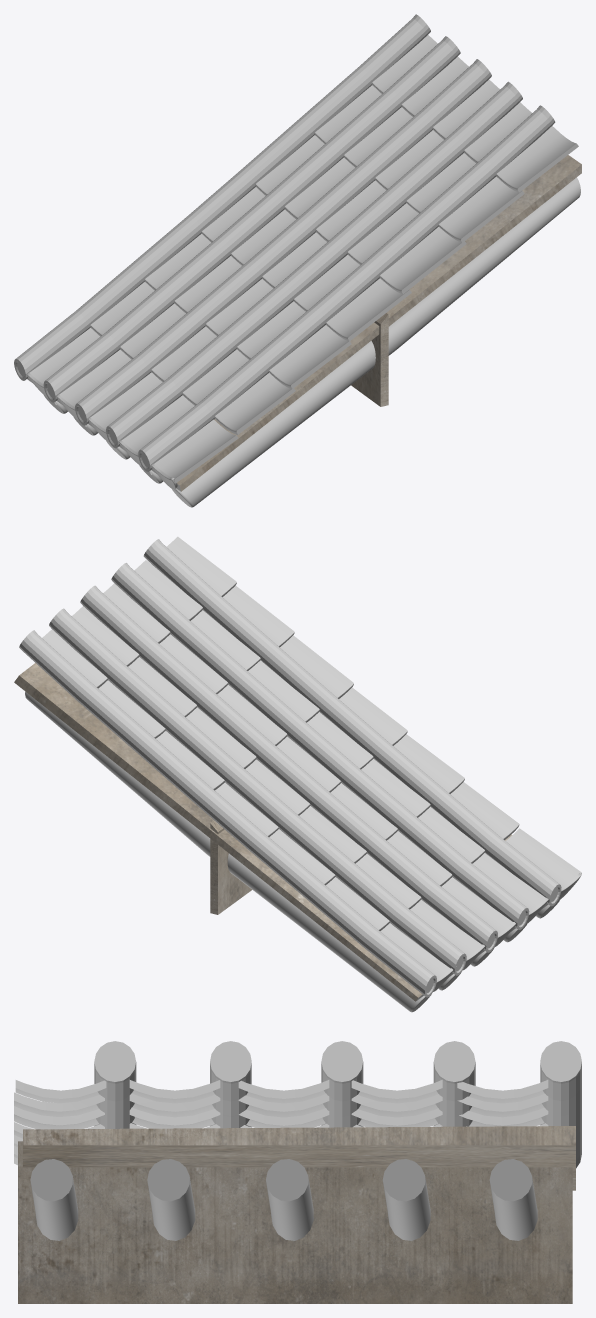
File: SM_Roof_52.fbx
3 views of the same model, one above another, from view 1: azimuth 30°, elevation 25°; view 2: azimuth 150°, elevation 25°; view 3: azimuth 270°, elevation 25° (orthographic). The views are drawn at different scales.
Visible parts, largest first — view 1: SM_Roof_52; view 2: SM_Roof_52; view 3: SM_Roof_52.
Part boxes in pixels (box(x1,y1,x2,y2)): SM_Roof_52: box(14, 14, 581, 507); SM_Roof_52: box(14, 536, 581, 1012); SM_Roof_52: box(14, 1041, 581, 1303).
Size of the model in its own units: 418 by 276 by 286.
